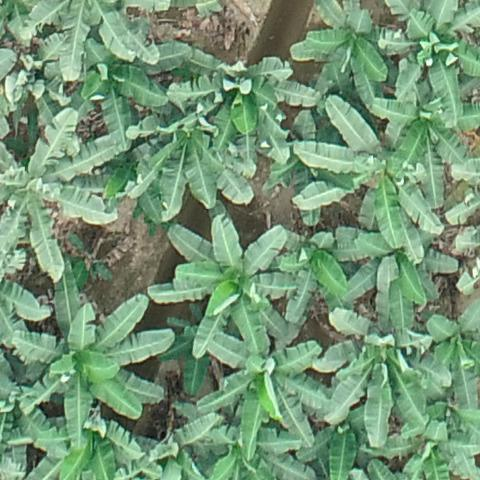Banana-plant: (9, 253, 175, 450), (96, 53, 252, 221), (294, 96, 446, 265), (148, 206, 305, 354), (320, 260, 439, 453), (0, 110, 129, 282), (194, 308, 334, 461), (323, 182, 452, 336), (167, 46, 323, 163), (379, 2, 480, 131), (291, 0, 392, 121), (0, 0, 83, 128), (185, 402, 307, 480), (156, 303, 226, 396), (61, 224, 117, 293)
